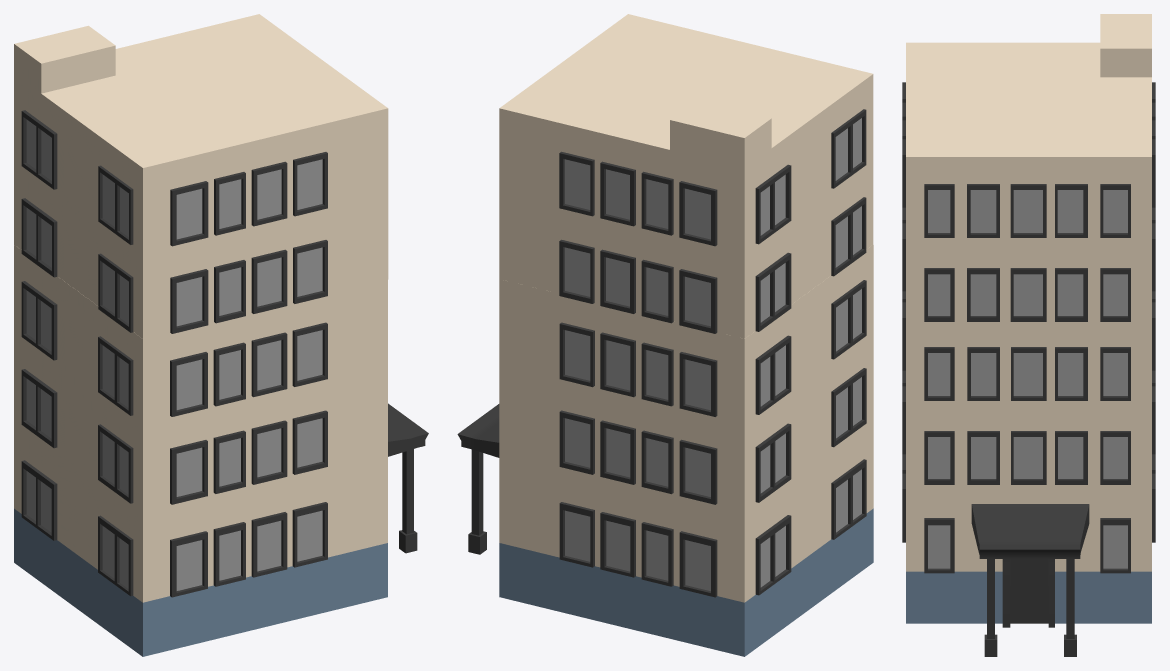
File: building4_wanwan.fbx
3 views of the same model, side by side, from view 1: azimuth 30°, elevation 25°; view 2: azimuth 150°, elevation 25°; view 3: azimuth 270°, elevation 25° (orthographic). The views are drawn at different scales.
Parts seen in each view (by area): view 1: building_4; view 2: building_4; view 3: building_4.
Part boxes in pixels (bbox=[...]): building_4: bbox=[14, 14, 428, 656]; building_4: bbox=[457, 14, 873, 656]; building_4: bbox=[902, 14, 1155, 656].
Bounding box in the file's own units: 19.59 × 29.63 × 13.73.
